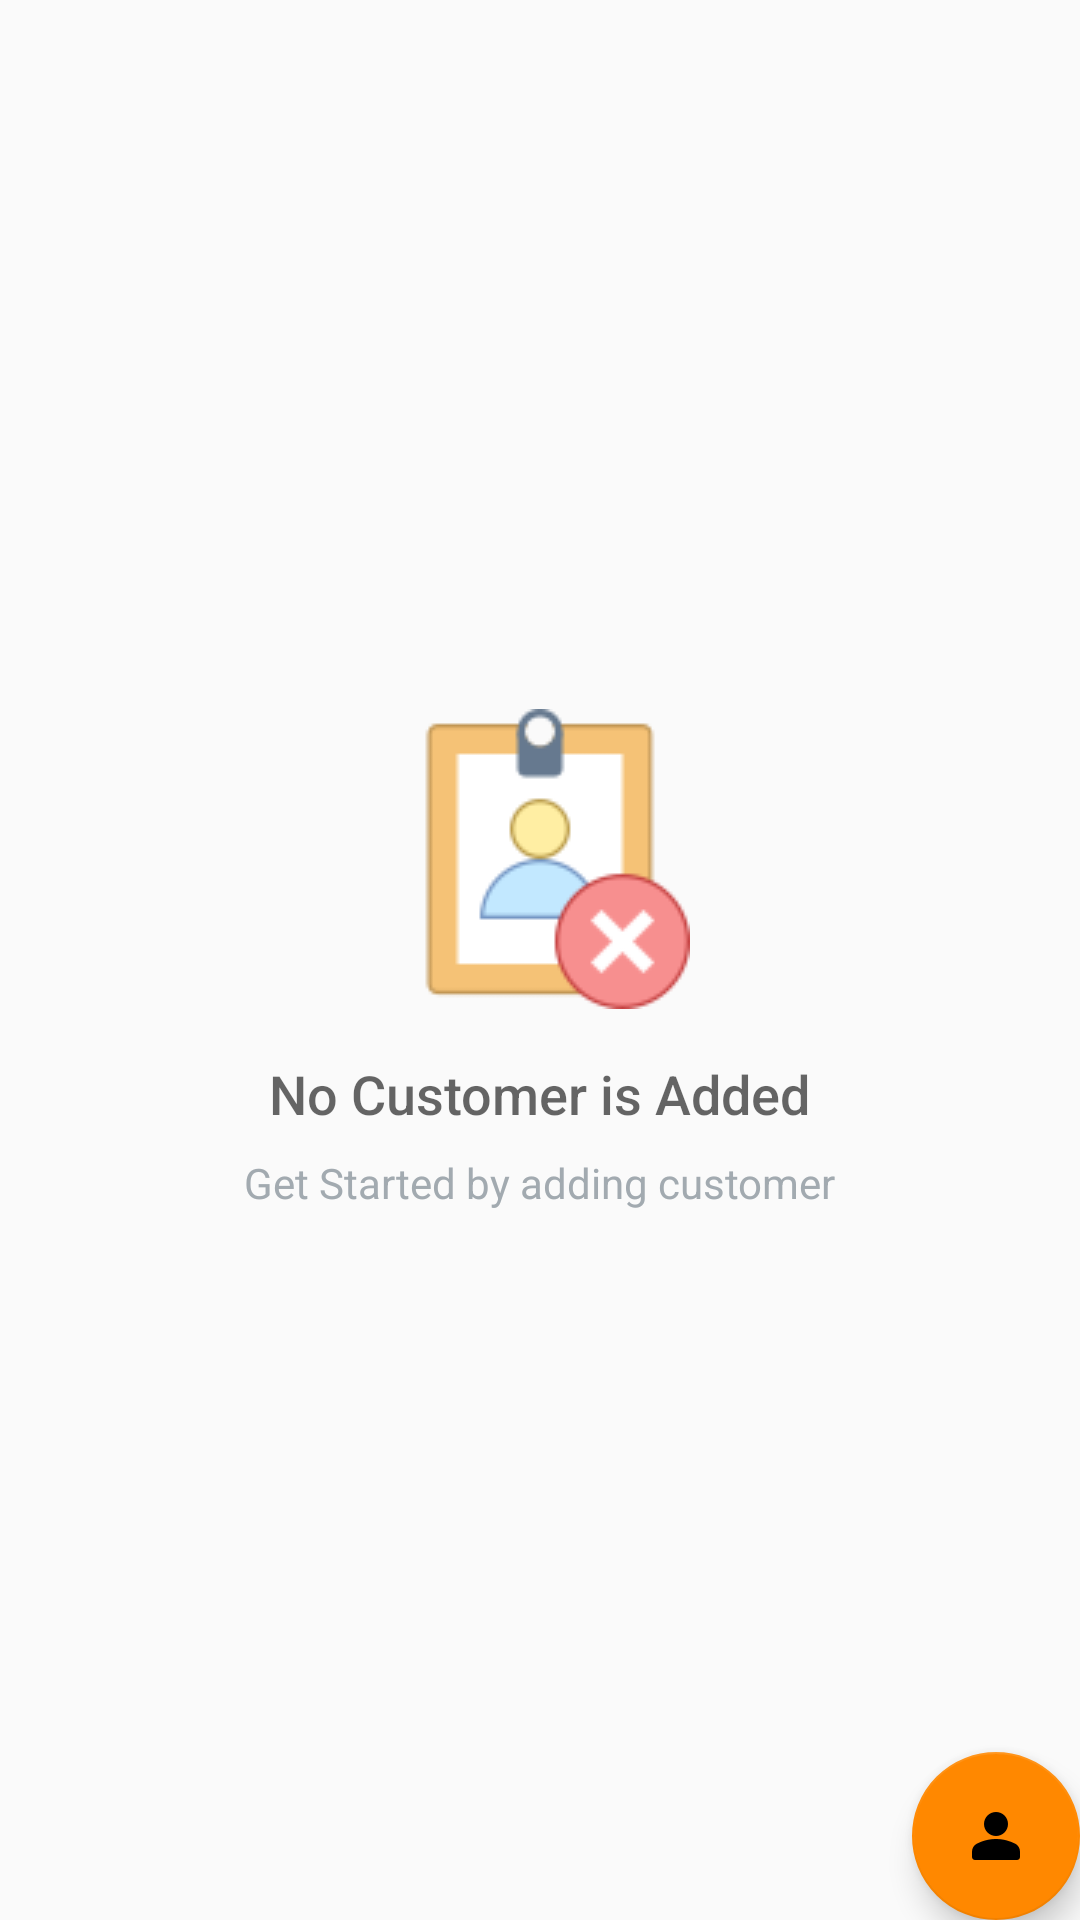

Named icons in this screenshot (1080x1920) and their bounding boxes, detection(x1, y1, x2, y2):
no data: detection(425, 709, 690, 1009)
perm identity: detection(912, 1752, 1080, 1920)
